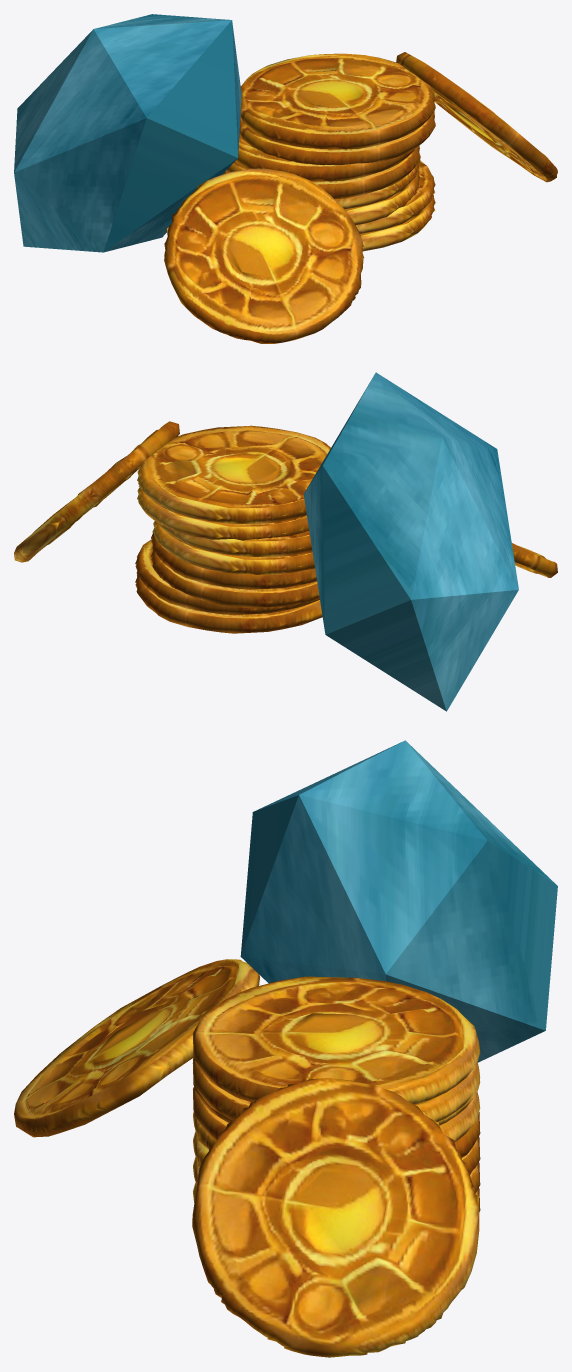
File: gem-transformed.glb
3 renders of one model, top to bottom at view 1: azimuth 30°, elevation 25°; view 2: azimuth 150°, elevation 25°; view 3: azimuth 270°, elevation 25°, orthographic. The views are drawn at different scales.
Parts seen in each view (by area): view 1: Plane.010; view 2: Plane.010; view 3: Plane.010.
Part boxes in pixels (x1=…): Plane.010: x1=14, y1=14, x2=557, y2=343; Plane.010: x1=14, y1=372, x2=557, y2=711; Plane.010: x1=14, y1=740, x2=557, y2=1357.
Size of the model in its own units: 0.3723 by 0.1737 by 0.2444.
2 materials, 2 textured.
